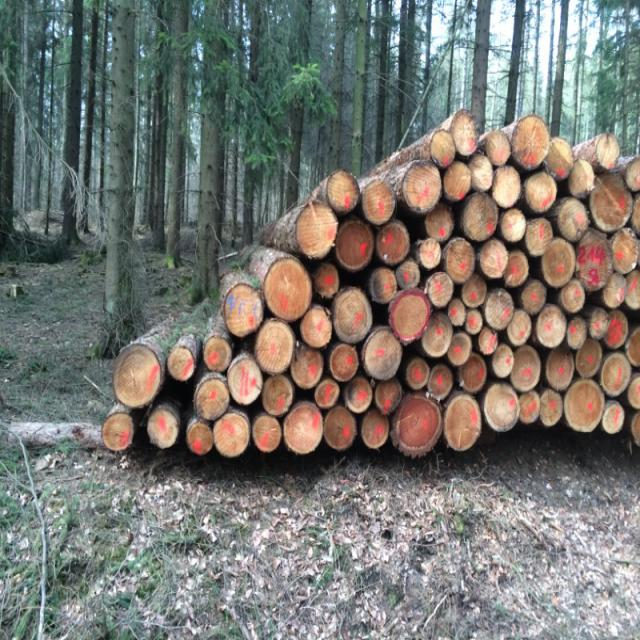wood-log: (116, 343, 166, 408), (394, 392, 444, 456), (263, 257, 312, 320), (588, 173, 634, 233), (297, 201, 340, 258), (574, 230, 612, 292), (388, 291, 432, 344), (255, 320, 298, 374), (223, 284, 265, 338), (333, 288, 373, 344), (443, 393, 481, 451), (512, 116, 552, 171), (336, 218, 376, 272), (363, 328, 404, 380), (564, 378, 604, 431), (284, 402, 325, 453), (403, 164, 442, 213), (461, 192, 499, 242), (227, 356, 264, 406), (540, 240, 576, 289), (483, 385, 520, 432), (195, 375, 232, 420), (376, 220, 412, 266), (590, 307, 630, 348), (213, 412, 249, 457), (325, 404, 359, 451), (554, 197, 590, 241), (421, 314, 454, 361), (328, 169, 362, 214), (511, 346, 543, 393), (290, 346, 324, 389), (362, 180, 396, 223), (524, 172, 558, 215), (147, 405, 180, 449), (534, 305, 567, 348), (101, 411, 135, 452), (599, 353, 632, 395), (451, 111, 481, 157), (300, 307, 333, 348), (445, 241, 476, 284), (263, 374, 296, 414), (478, 240, 511, 280), (610, 229, 640, 273), (483, 290, 515, 331), (546, 348, 576, 391), (312, 260, 342, 302), (252, 413, 284, 452), (360, 406, 389, 449), (491, 166, 522, 206), (525, 217, 554, 259), (343, 374, 375, 412), (424, 204, 456, 242), (374, 377, 406, 414), (574, 339, 604, 378), (458, 355, 488, 394), (443, 160, 472, 200), (331, 343, 362, 380), (368, 265, 398, 303), (166, 345, 196, 381), (427, 271, 456, 308), (604, 272, 632, 310), (204, 336, 233, 372), (506, 311, 534, 348), (594, 133, 622, 169), (504, 250, 530, 288), (499, 210, 528, 244), (429, 362, 457, 397), (446, 331, 473, 367), (462, 274, 490, 308), (484, 131, 512, 165), (188, 420, 215, 455), (559, 278, 585, 314), (521, 282, 548, 316), (406, 356, 433, 390), (541, 388, 564, 427), (472, 154, 496, 191), (314, 377, 341, 409), (491, 342, 515, 378), (397, 261, 423, 291), (418, 238, 442, 270), (565, 317, 587, 350), (603, 403, 625, 434), (478, 327, 500, 356), (447, 298, 468, 328), (625, 269, 640, 310), (626, 328, 640, 368), (626, 158, 640, 191), (628, 373, 640, 409), (631, 411, 640, 447)
